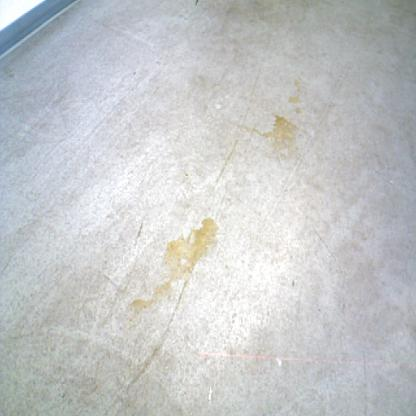liquid: (164, 218, 218, 282), (129, 282, 173, 314), (164, 274, 188, 332), (272, 116, 298, 160), (214, 138, 238, 182), (288, 70, 304, 113), (236, 124, 272, 138), (206, 384, 214, 407)
mark: (102, 344, 157, 414), (312, 227, 343, 276), (242, 54, 265, 120), (360, 346, 368, 413), (135, 213, 146, 245), (290, 276, 296, 288), (193, 1, 201, 8), (61, 391, 66, 401), (131, 69, 137, 77), (184, 172, 190, 180)
